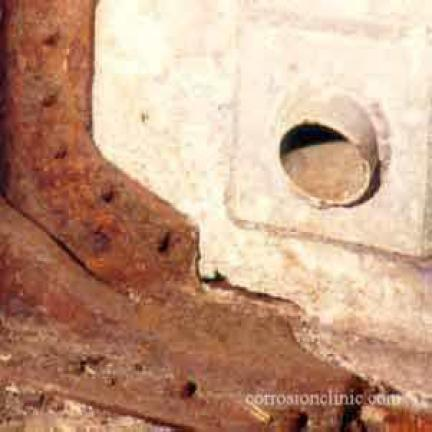besi_tidak_karat: (95, 0, 431, 401)
karat: (0, 0, 370, 430), (0, 0, 197, 292)
